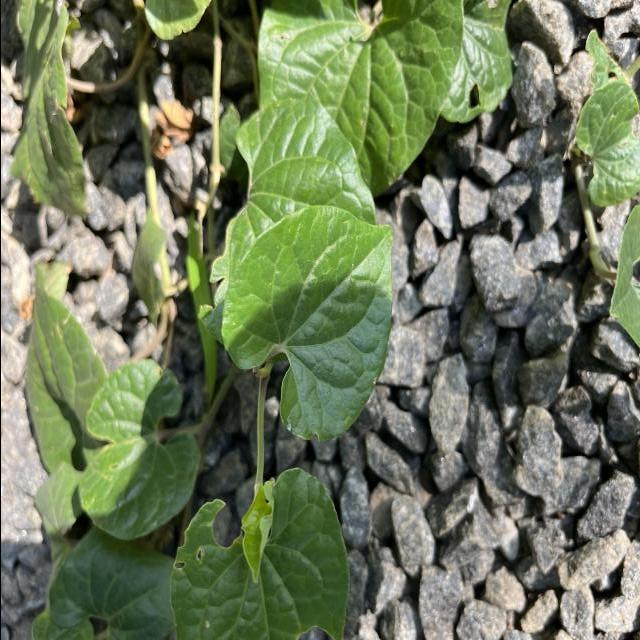Piper longum: (218, 202, 394, 444)
